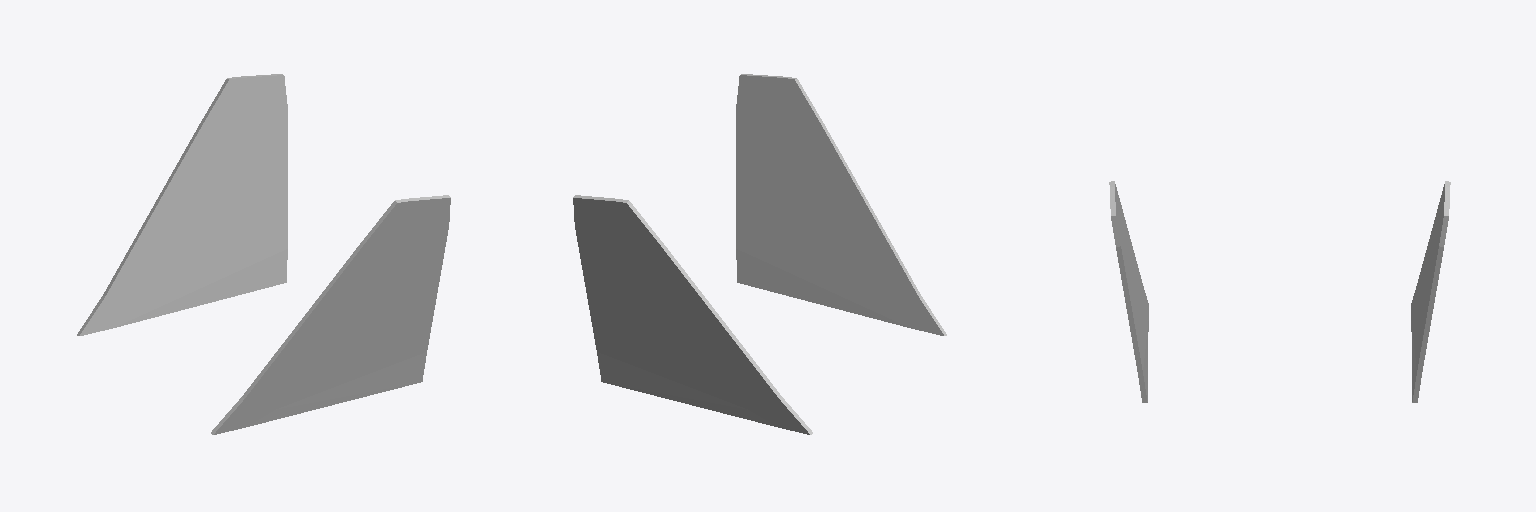
File: rud.obj
The picture shows the model from 3 angles: view 1: azimuth 30°, elevation 25°; view 2: azimuth 150°, elevation 25°; view 3: azimuth 270°, elevation 25°; orthographic projection.
Parts seen in each view (by area): view 1: Cube.005; view 2: Cube.005; view 3: Cube.005.
Boxes of the visible parts, x1=… form: Cube.005: x1=77, y1=74, x2=450, y2=434; Cube.005: x1=573, y1=74, x2=946, y2=434; Cube.005: x1=1109, y1=181, x2=1450, y2=402.
Bounding box in the file's own units: 0.5898 × 0.519 × 0.7835.